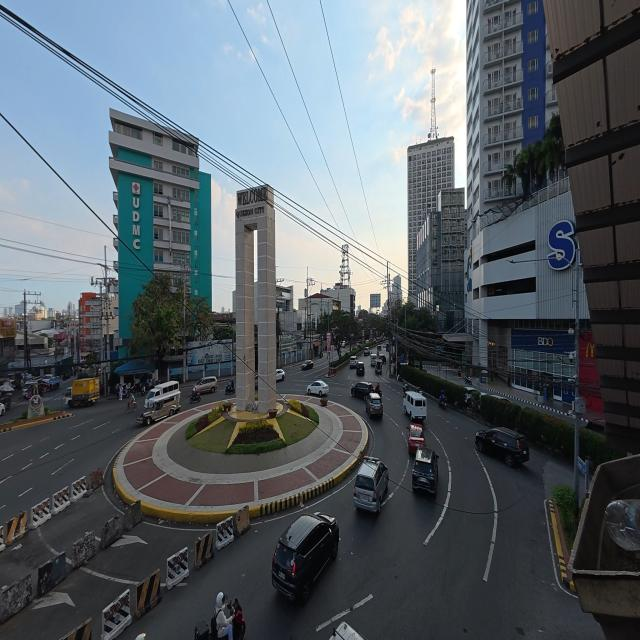Jeepneys: (137, 391, 180, 425)
car: (272, 513, 339, 603), (475, 428, 529, 466), (354, 457, 388, 513), (412, 448, 438, 493), (330, 621, 366, 639), (408, 423, 425, 454), (365, 393, 383, 417), (195, 376, 217, 394), (351, 382, 374, 398), (307, 381, 328, 397), (465, 387, 478, 408), (23, 381, 38, 397), (490, 394, 511, 403), (301, 360, 313, 370), (65, 387, 72, 404), (276, 369, 285, 382), (356, 362, 364, 375), (378, 354, 386, 364), (0, 403, 5, 415), (364, 348, 369, 356)
motorcycle: (229, 599, 245, 639), (230, 599, 245, 639), (190, 387, 201, 402), (0, 396, 11, 409), (225, 385, 235, 394), (439, 399, 446, 409), (465, 375, 472, 384), (403, 384, 408, 393)
trucks: (69, 378, 99, 406)
vans: (145, 381, 179, 408), (403, 391, 426, 421), (350, 356, 356, 369), (371, 354, 377, 366)
